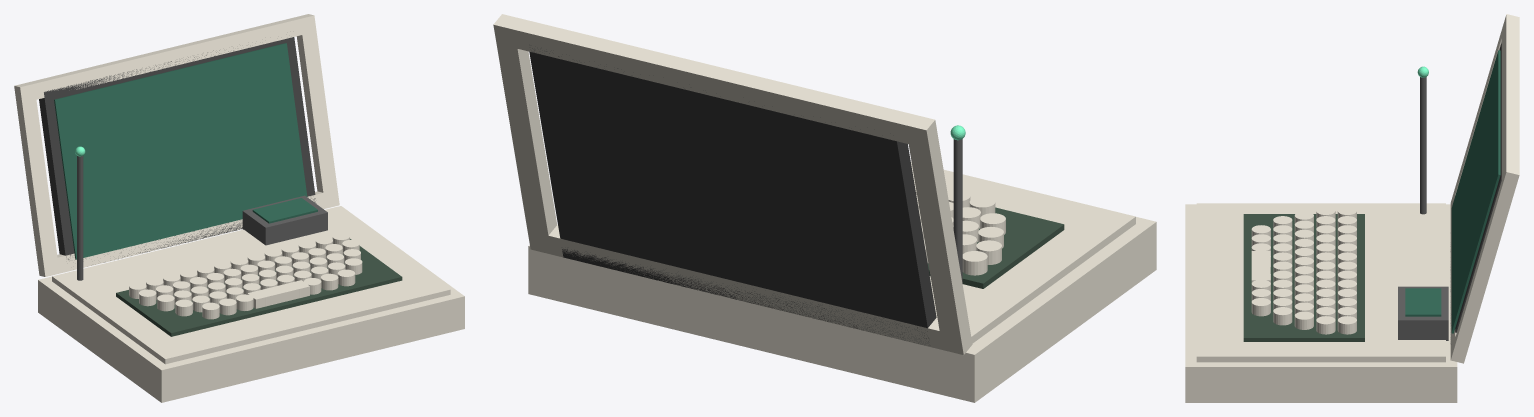
The model's file is build-vintage-writer.glb.
3 renders of one model, left to right at view 1: azimuth 30°, elevation 25°; view 2: azimuth 150°, elevation 25°; view 3: azimuth 270°, elevation 25°, orthographic. The views are drawn at different scales.
Parts seen in each view (by area): view 1: geometry_7, geometry_1, geometry_0, geometry_6, geometry_2, geometry_8, geometry_4, geometry_5, geometry_3, geometry_67, geometry_62, geometry_68 (+1 smaller); view 2: geometry_6, geometry_0, geometry_2, geometry_1, geometry_3, geometry_4, geometry_5, geometry_8, geometry_69, geometry_9; view 3: geometry_1, geometry_0, geometry_7, geometry_8, geometry_2, geometry_5, geometry_67, geometry_68, geometry_69, geometry_6, geometry_3, geometry_4 (+6 smaller).
Part boxes in pixels (x1,y1,x2,y2): geometry_7: [54, 43, 307, 259]; geometry_1: [52, 206, 450, 364]; geometry_0: [38, 206, 464, 402]; geometry_6: [39, 37, 316, 262]; geometry_2: [14, 14, 316, 102]; geometry_8: [116, 239, 402, 336]; geometry_4: [14, 82, 59, 276]; geometry_5: [296, 14, 339, 208]; geometry_3: [37, 189, 339, 276]; geometry_67: [242, 195, 327, 245]; geometry_62: [247, 280, 309, 308]; geometry_68: [252, 198, 317, 223]; geometry_6: [529, 48, 936, 343]; geometry_0: [528, 217, 1156, 402]; geometry_2: [493, 14, 938, 148]; geometry_1: [911, 161, 1135, 343]; geometry_3: [527, 225, 972, 354]; geometry_4: [906, 115, 971, 354]; geometry_5: [493, 14, 557, 254]; geometry_8: [927, 207, 1064, 288]; geometry_69: [953, 139, 962, 283]; geometry_9: [962, 251, 987, 275]; geometry_1: [1196, 203, 1445, 362]; geometry_0: [1185, 204, 1457, 402]; geometry_7: [1451, 50, 1500, 333]; geometry_8: [1243, 214, 1364, 341]; geometry_2: [1501, 14, 1519, 190]; geometry_5: [1451, 165, 1518, 362]; geometry_67: [1398, 286, 1448, 340]; geometry_68: [1405, 288, 1441, 316]; geometry_69: [1420, 77, 1426, 214]; geometry_6: [1450, 43, 1501, 343]; geometry_3: [1450, 188, 1468, 363]; geometry_4: [1450, 14, 1519, 204].
Size of the model in its own units: 0.34 by 0.2226 by 0.295.
